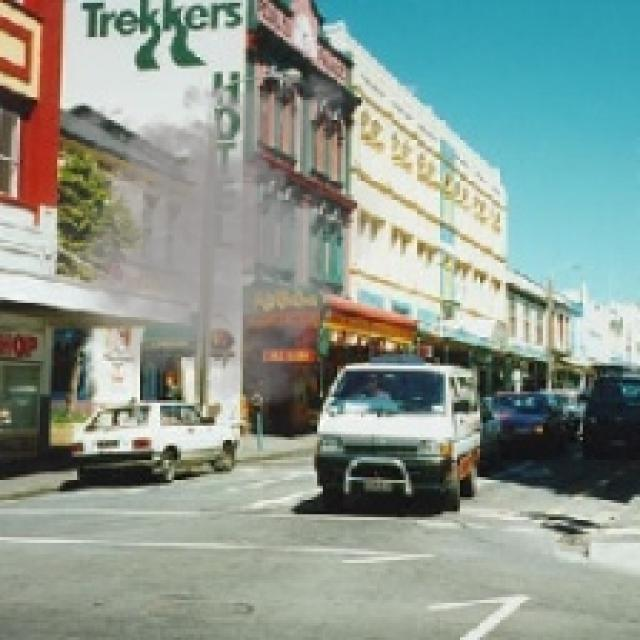Smoke: (11, 62, 403, 412)
